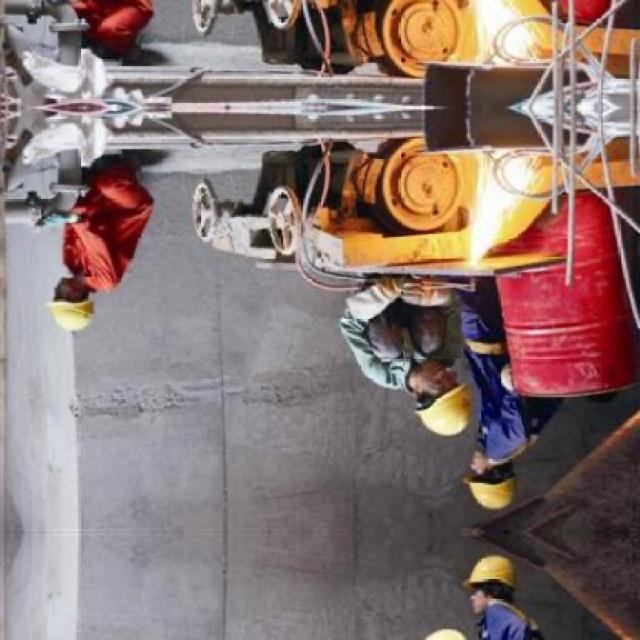con casco: (385, 338, 470, 455), (455, 432, 552, 520), (35, 253, 128, 336)
